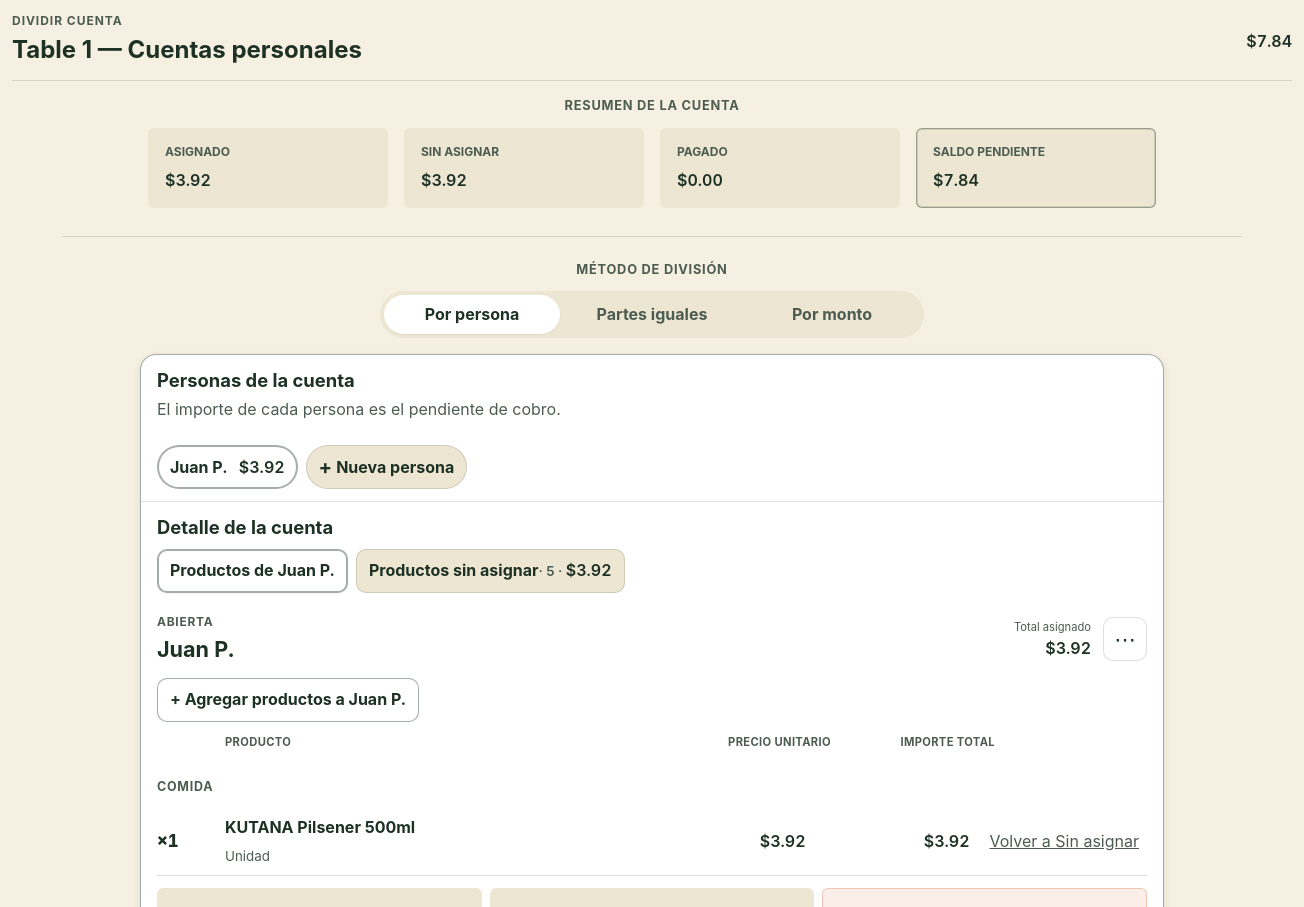
Test case: SplitBillView › counts selected units and includes the line total per selected quantity
The width and height of the screenshot is (1304, 907).
What coordinates should you click on to do the following:
click the tab "Productos sin asignar· 5 · $3.92"
I would click on:
 (490, 571)
Its box is [356,549,625,593].
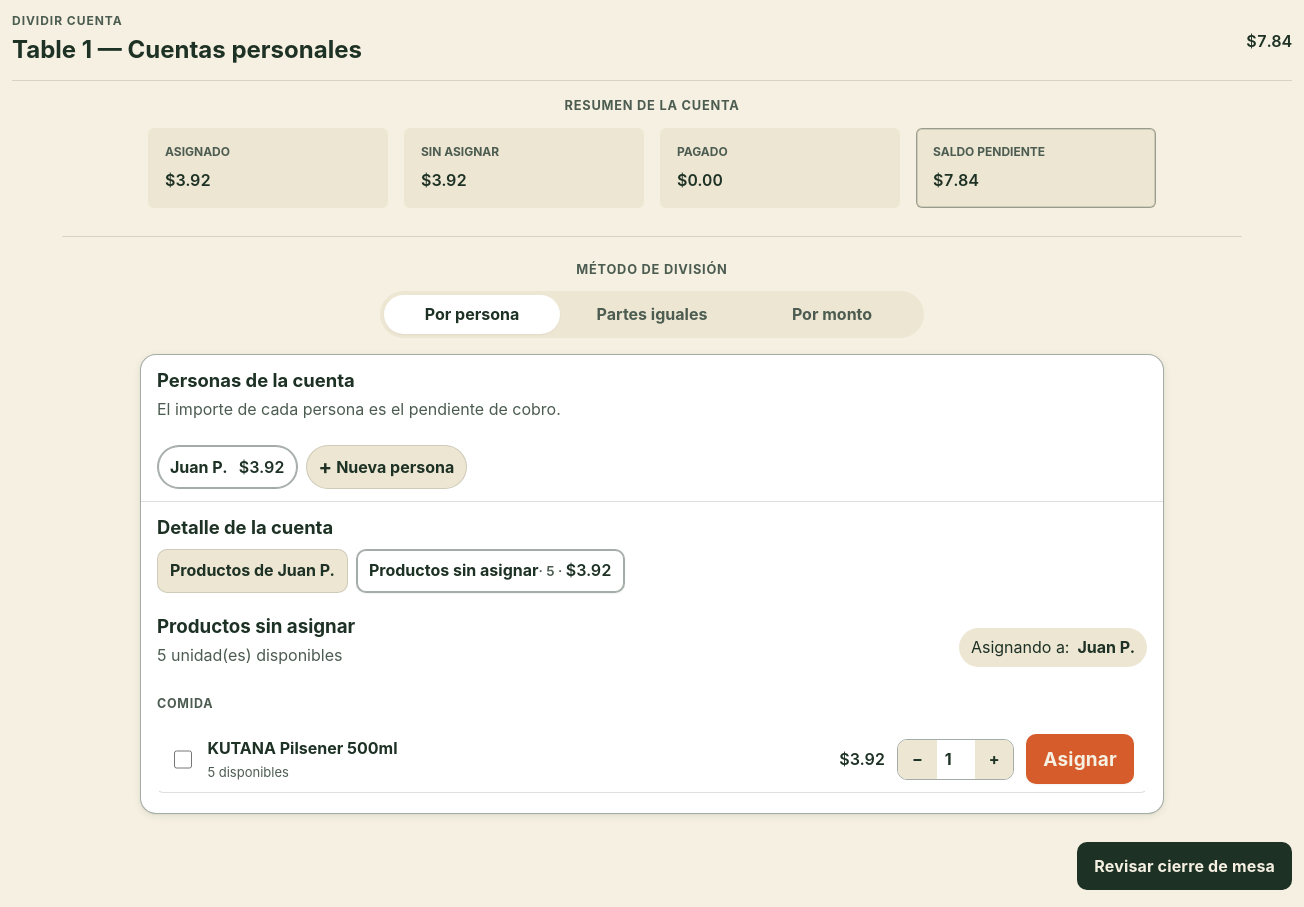
What coordinates should you click on to do the following:
click the checkbox named "Seleccionar KUTANA Pilsener 500ml"
I would click on:
 (183, 760)
Its box is [174,750,192,769].
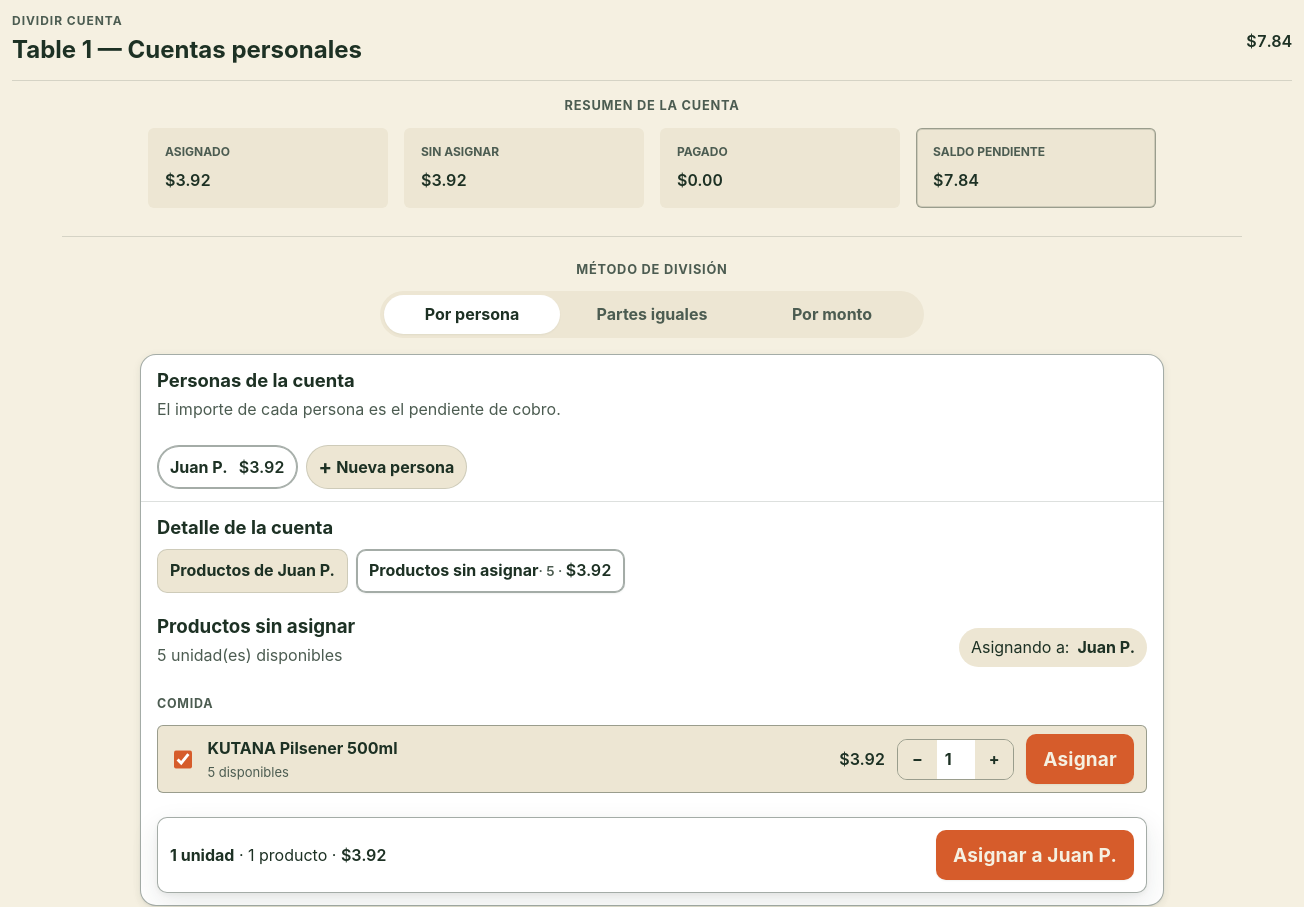
What coordinates should you click on to do the following:
click the button named "Aumentar KUTANA Pilsener 500ml"
I would click on:
 (994, 760)
Its box is [975,740,1013,779].
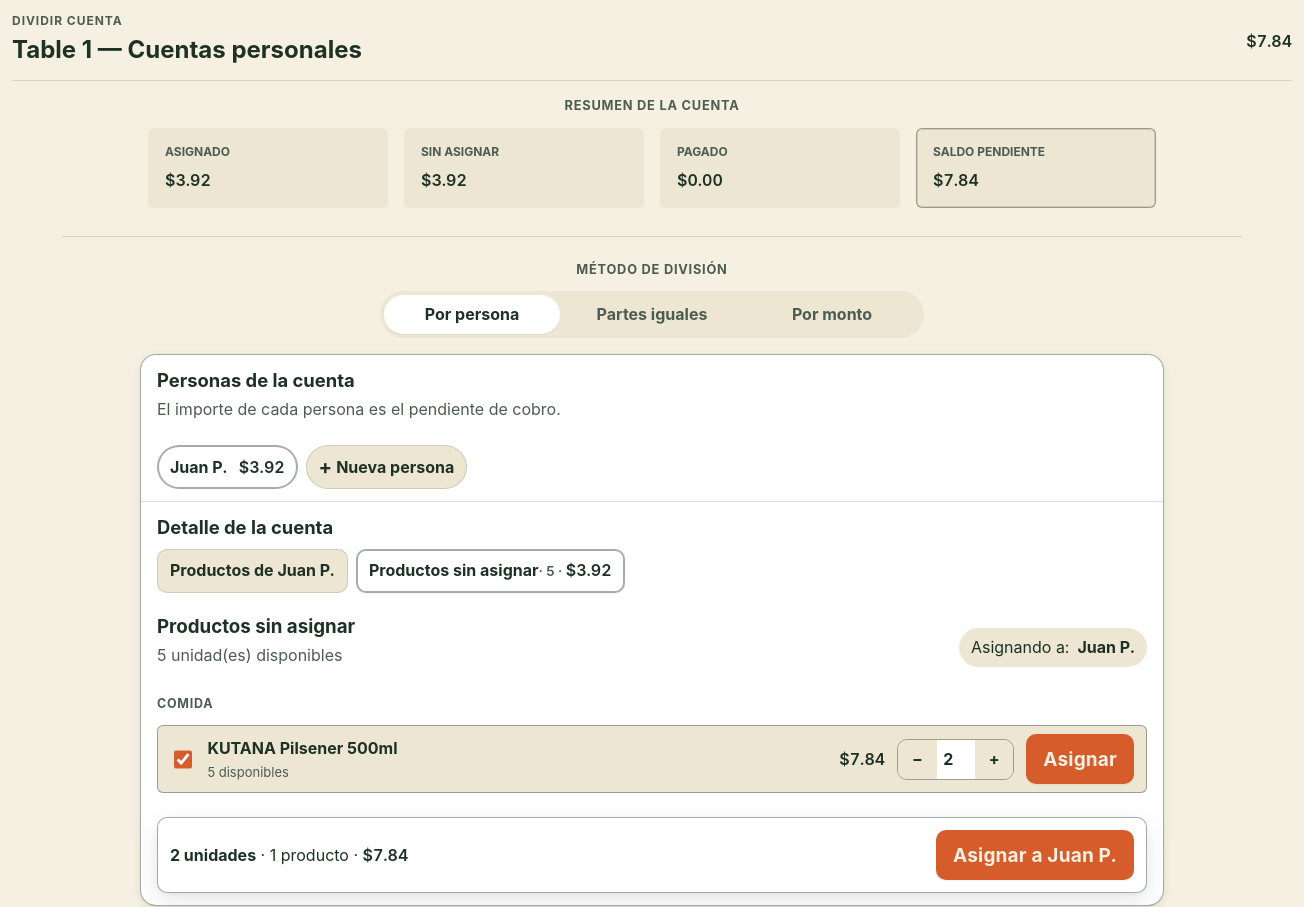
Expected: the element named "Asignación múltiple" shows "2 unidades · 1 producto · $7.84", [157,818,1147,894]
